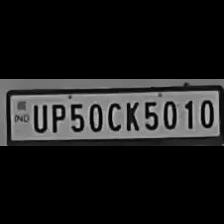0: (159, 96, 179, 128), (196, 95, 216, 127), (86, 99, 104, 130)
1: (180, 96, 196, 128)
5: (140, 96, 160, 130), (66, 99, 86, 131)
C: (104, 98, 122, 130)
K: (122, 97, 140, 130)
P: (48, 99, 64, 131)
U: (29, 99, 48, 131)
